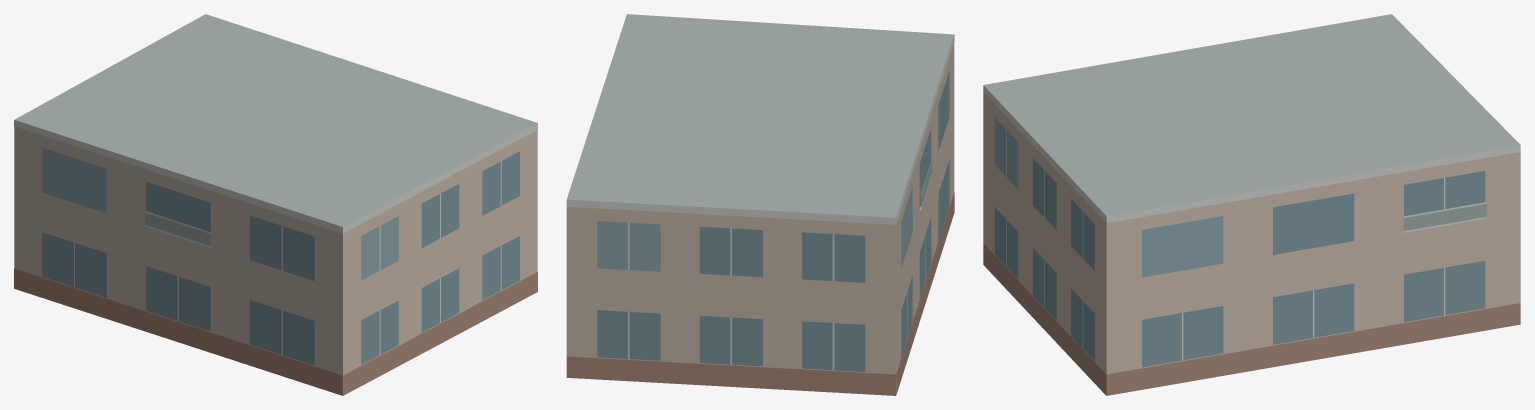
Rendered from survey-upis-32759327.glb.
3 renders of one model, left to right at view 1: azimuth 30°, elevation 25°; view 2: azimuth 150°, elevation 25°; view 3: azimuth 270°, elevation 25°, orthographic. The views are drawn at different scales.
Visible parts, largest first — view 1: survey-upis-32759327.tmp; view 2: survey-upis-32759327.tmp; view 3: survey-upis-32759327.tmp.
Boxes of the visible parts, left/top/right/bottom form: survey-upis-32759327.tmp: left=14, top=14, right=537, bottom=395; survey-upis-32759327.tmp: left=566, top=14, right=954, bottom=395; survey-upis-32759327.tmp: left=983, top=14, right=1520, bottom=395.
Size of the model in its own units: 14.73 by 6.1 by 16.54.
